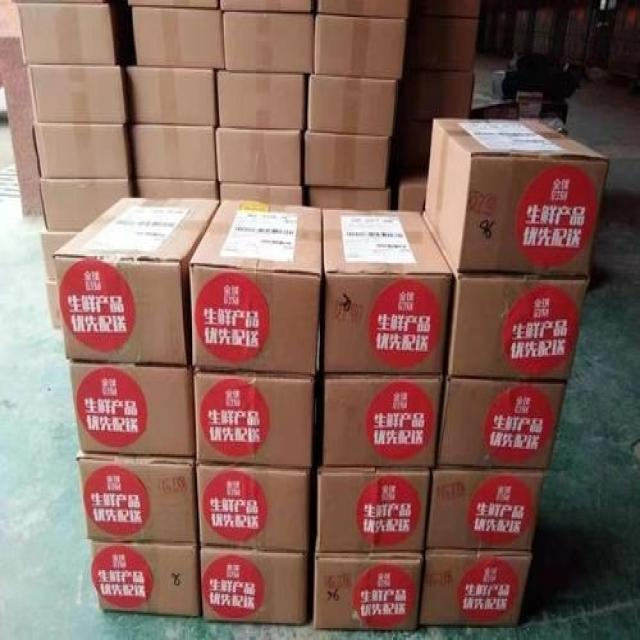box: (424, 116, 612, 276), (51, 198, 220, 365), (188, 198, 323, 375), (323, 208, 453, 372), (444, 275, 590, 381), (434, 375, 567, 469), (193, 370, 315, 469), (67, 362, 193, 457), (74, 451, 200, 544), (323, 374, 443, 468), (196, 464, 310, 553), (426, 469, 544, 551), (317, 466, 430, 551), (419, 550, 534, 626), (201, 544, 308, 625), (88, 543, 200, 618), (314, 553, 422, 630), (17, 5, 115, 68), (314, 15, 406, 79), (306, 75, 398, 138), (132, 9, 225, 70), (27, 68, 125, 123), (223, 14, 314, 73), (33, 123, 128, 179), (125, 68, 218, 125), (218, 72, 305, 130), (303, 133, 390, 189), (131, 126, 216, 183), (215, 130, 300, 186), (38, 181, 131, 230), (424, 17, 479, 72), (416, 72, 475, 121), (38, 227, 78, 282), (307, 188, 392, 212), (220, 186, 303, 207), (134, 179, 218, 198), (319, 0, 410, 17), (220, 0, 312, 12), (428, 0, 480, 19), (398, 177, 426, 212)
